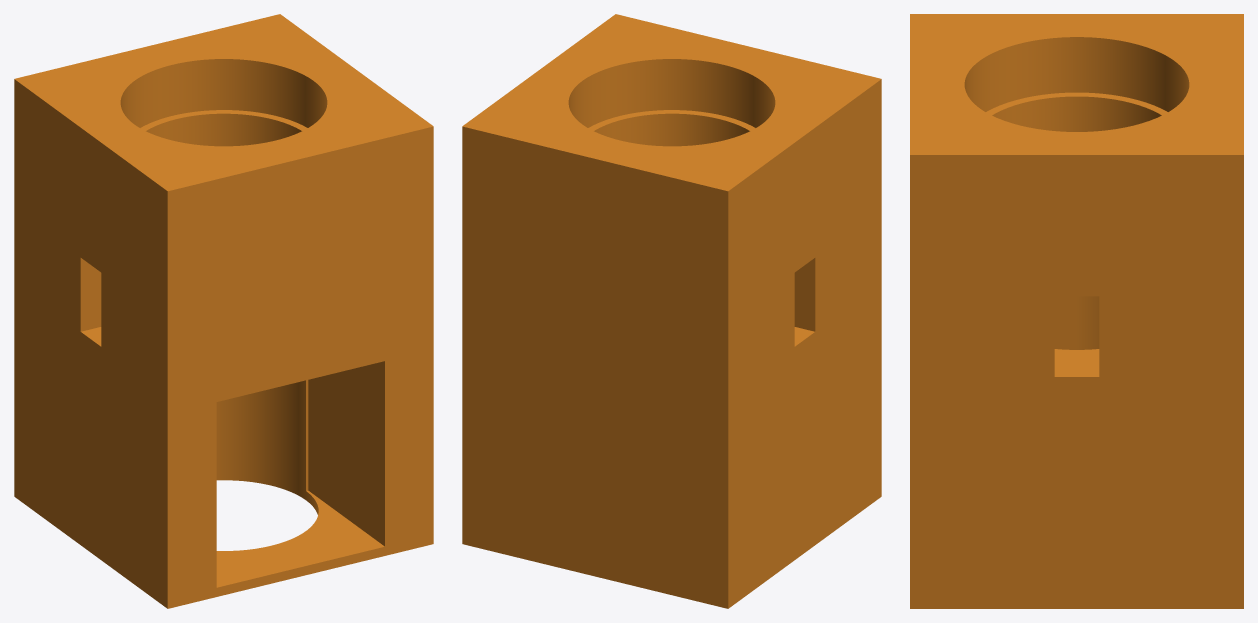
Rendered from alt_camara.glb.
The picture shows the model from 3 angles, left to right: view 1: azimuth 30°, elevation 25°; view 2: azimuth 150°, elevation 25°; view 3: azimuth 270°, elevation 25°; orthographic projection. The views are drawn at different scales.
Parts seen in each view (by area): view 1: alt_camara; view 2: alt_camara; view 3: alt_camara.
Boxes of the visible parts, left/top/right/bottom form: alt_camara: left=14, top=14, right=433, bottom=608; alt_camara: left=462, top=14, right=881, bottom=608; alt_camara: left=910, top=14, right=1243, bottom=608.
Size of the model in its own units: 60 by 90 by 60.
